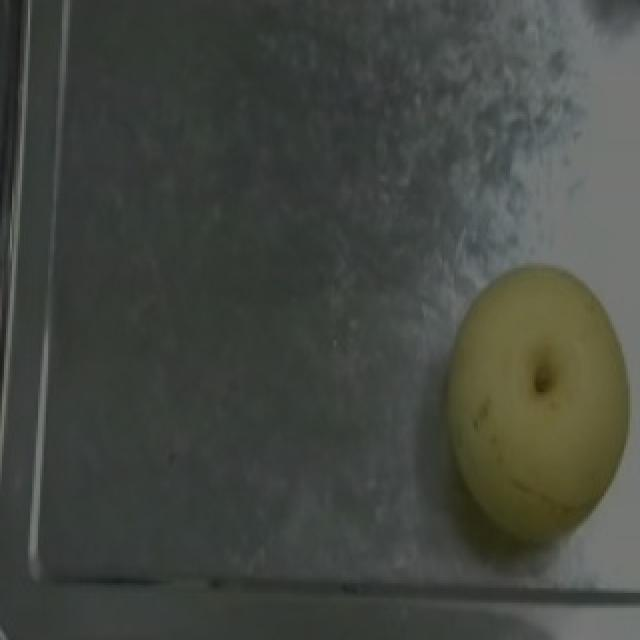Fruit: (424, 248, 640, 538)
